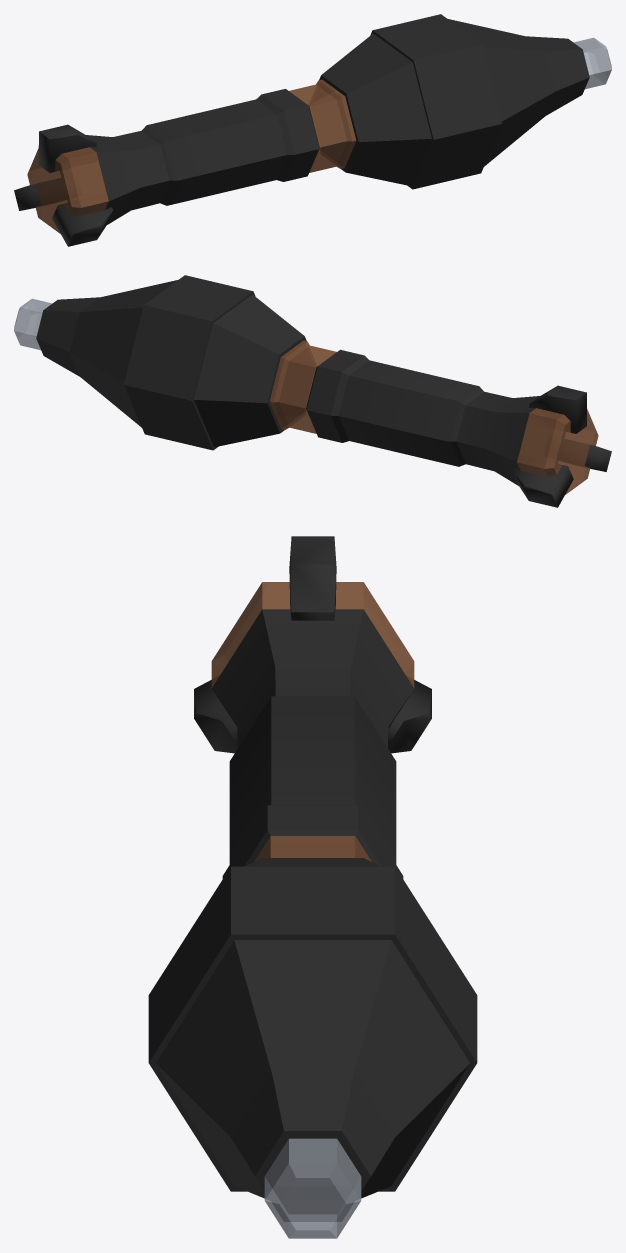
Rendered from MissileRocket.fbx.
3 renders of one model, top to bottom at view 1: azimuth 30°, elevation 25°; view 2: azimuth 150°, elevation 25°; view 3: azimuth 270°, elevation 25°, orthographic. The views are drawn at different scales.
Visible parts, largest first — view 1: Cylinder.001; view 2: Cylinder.001; view 3: Cylinder.001.
Boxes of the visible parts, <box> form: Cylinder.001: <box>14,14,611,246</box>; Cylinder.001: <box>14,275,611,507</box>; Cylinder.001: <box>148,536,477,1238</box>.
Bounding box in the file's own units: 301 × 66.47 × 76.44.
